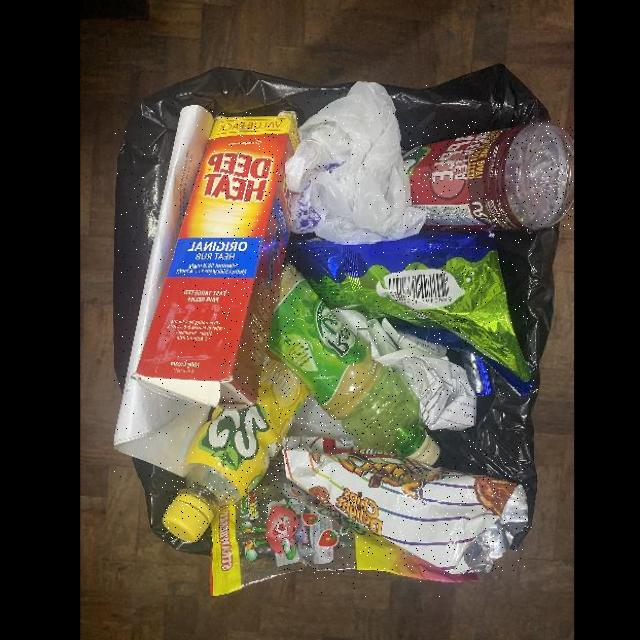paper: (135, 112, 301, 410), (115, 103, 221, 479), (333, 310, 475, 433)
plastic: (268, 260, 439, 465), (163, 352, 311, 541), (282, 81, 427, 243), (404, 120, 573, 230)
wrapper: (287, 229, 534, 395), (209, 448, 478, 596), (280, 435, 528, 573)
